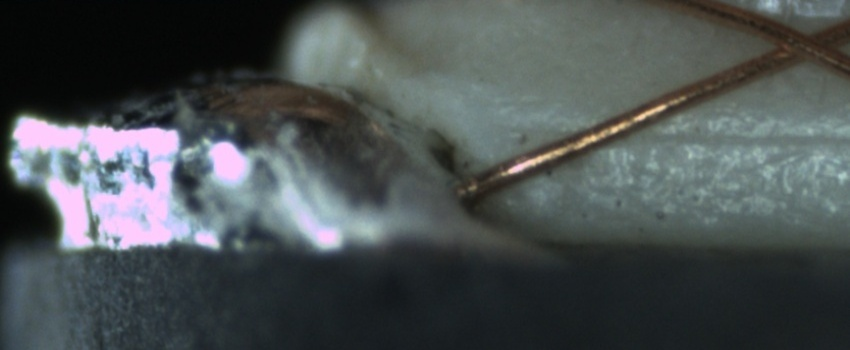CL: (756, 14, 847, 73)
DL: (536, 99, 849, 165)
